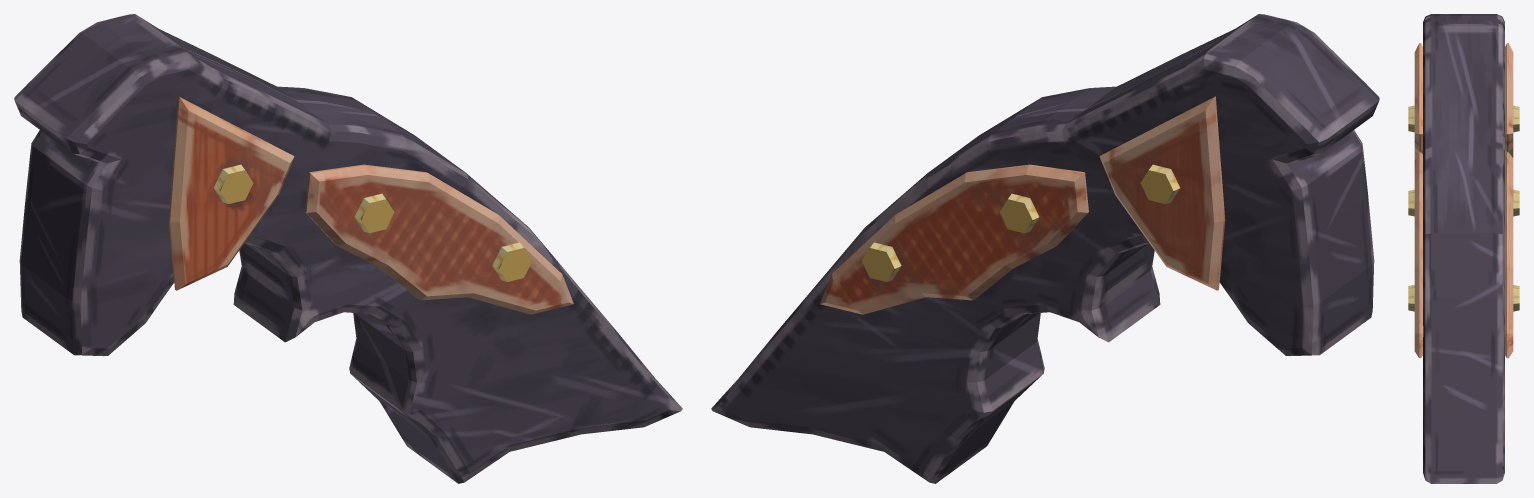
File: knife_handle.fbx
3 views of the same model, side by side, from view 1: azimuth 30°, elevation 25°; view 2: azimuth 150°, elevation 25°; view 3: azimuth 270°, elevation 25° (orthographic). The views are drawn at different scales.
Visible parts, largest first — view 1: knife_handle; view 2: knife_handle; view 3: knife_handle.
Part boxes in pixels (x1,y1,x2,y2): knife_handle: (14, 14, 682, 483); knife_handle: (711, 14, 1379, 483); knife_handle: (1408, 14, 1519, 483).
Size of the model in its own units: 0.3758 by 0.2904 by 0.0923.
